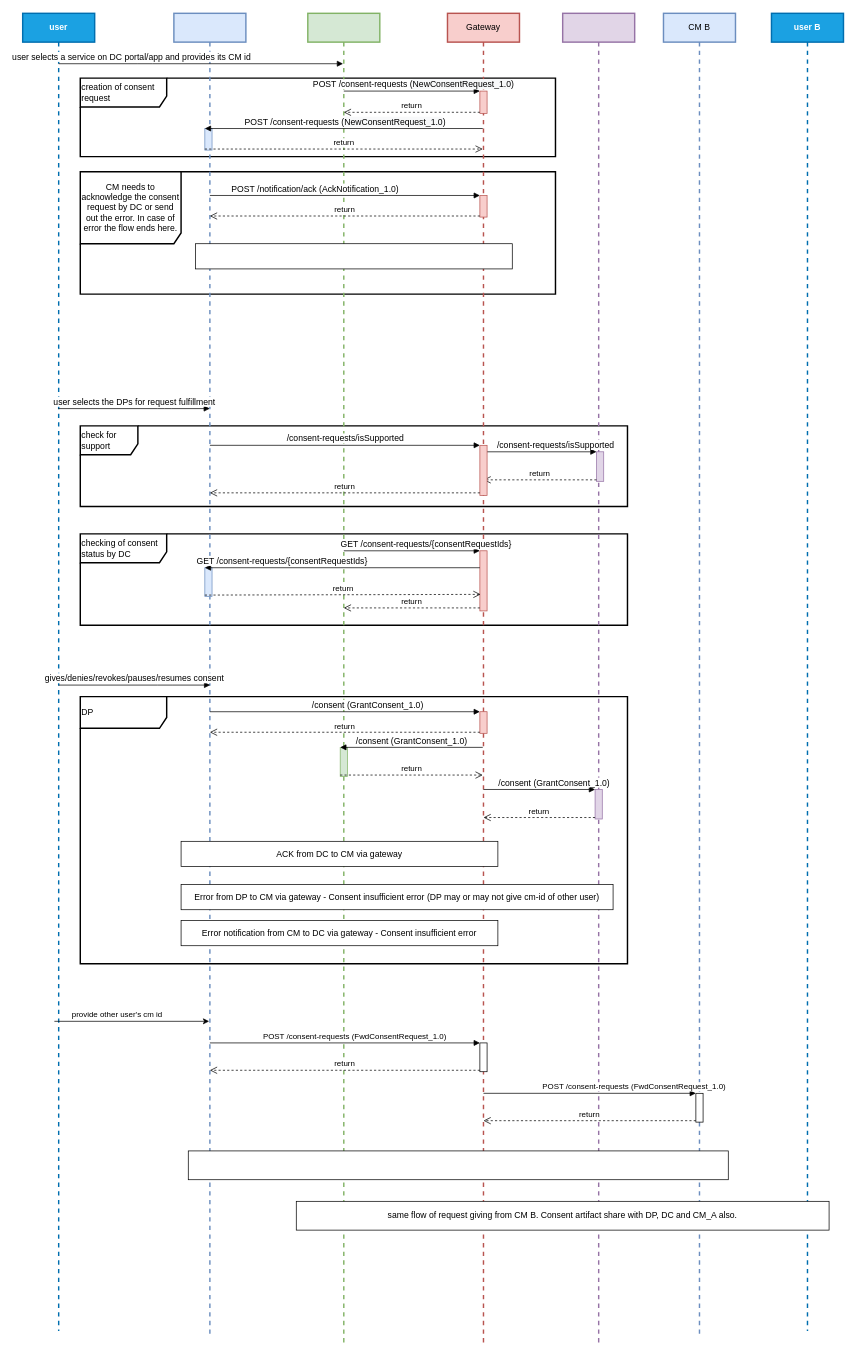
Some shapes in this 857 by 1358 pixel diagram are drawn without their labels. Each missing label, with the box of its shape:
ACK from CM_B to CM_A via gateway: (188, 1150, 728, 1180)
ACK or error from CM to DC via gateway: (195, 243, 512, 269)
CM: (173, 12, 246, 1338)
DC: (307, 12, 380, 1346)
DPs: (562, 12, 635, 1346)
